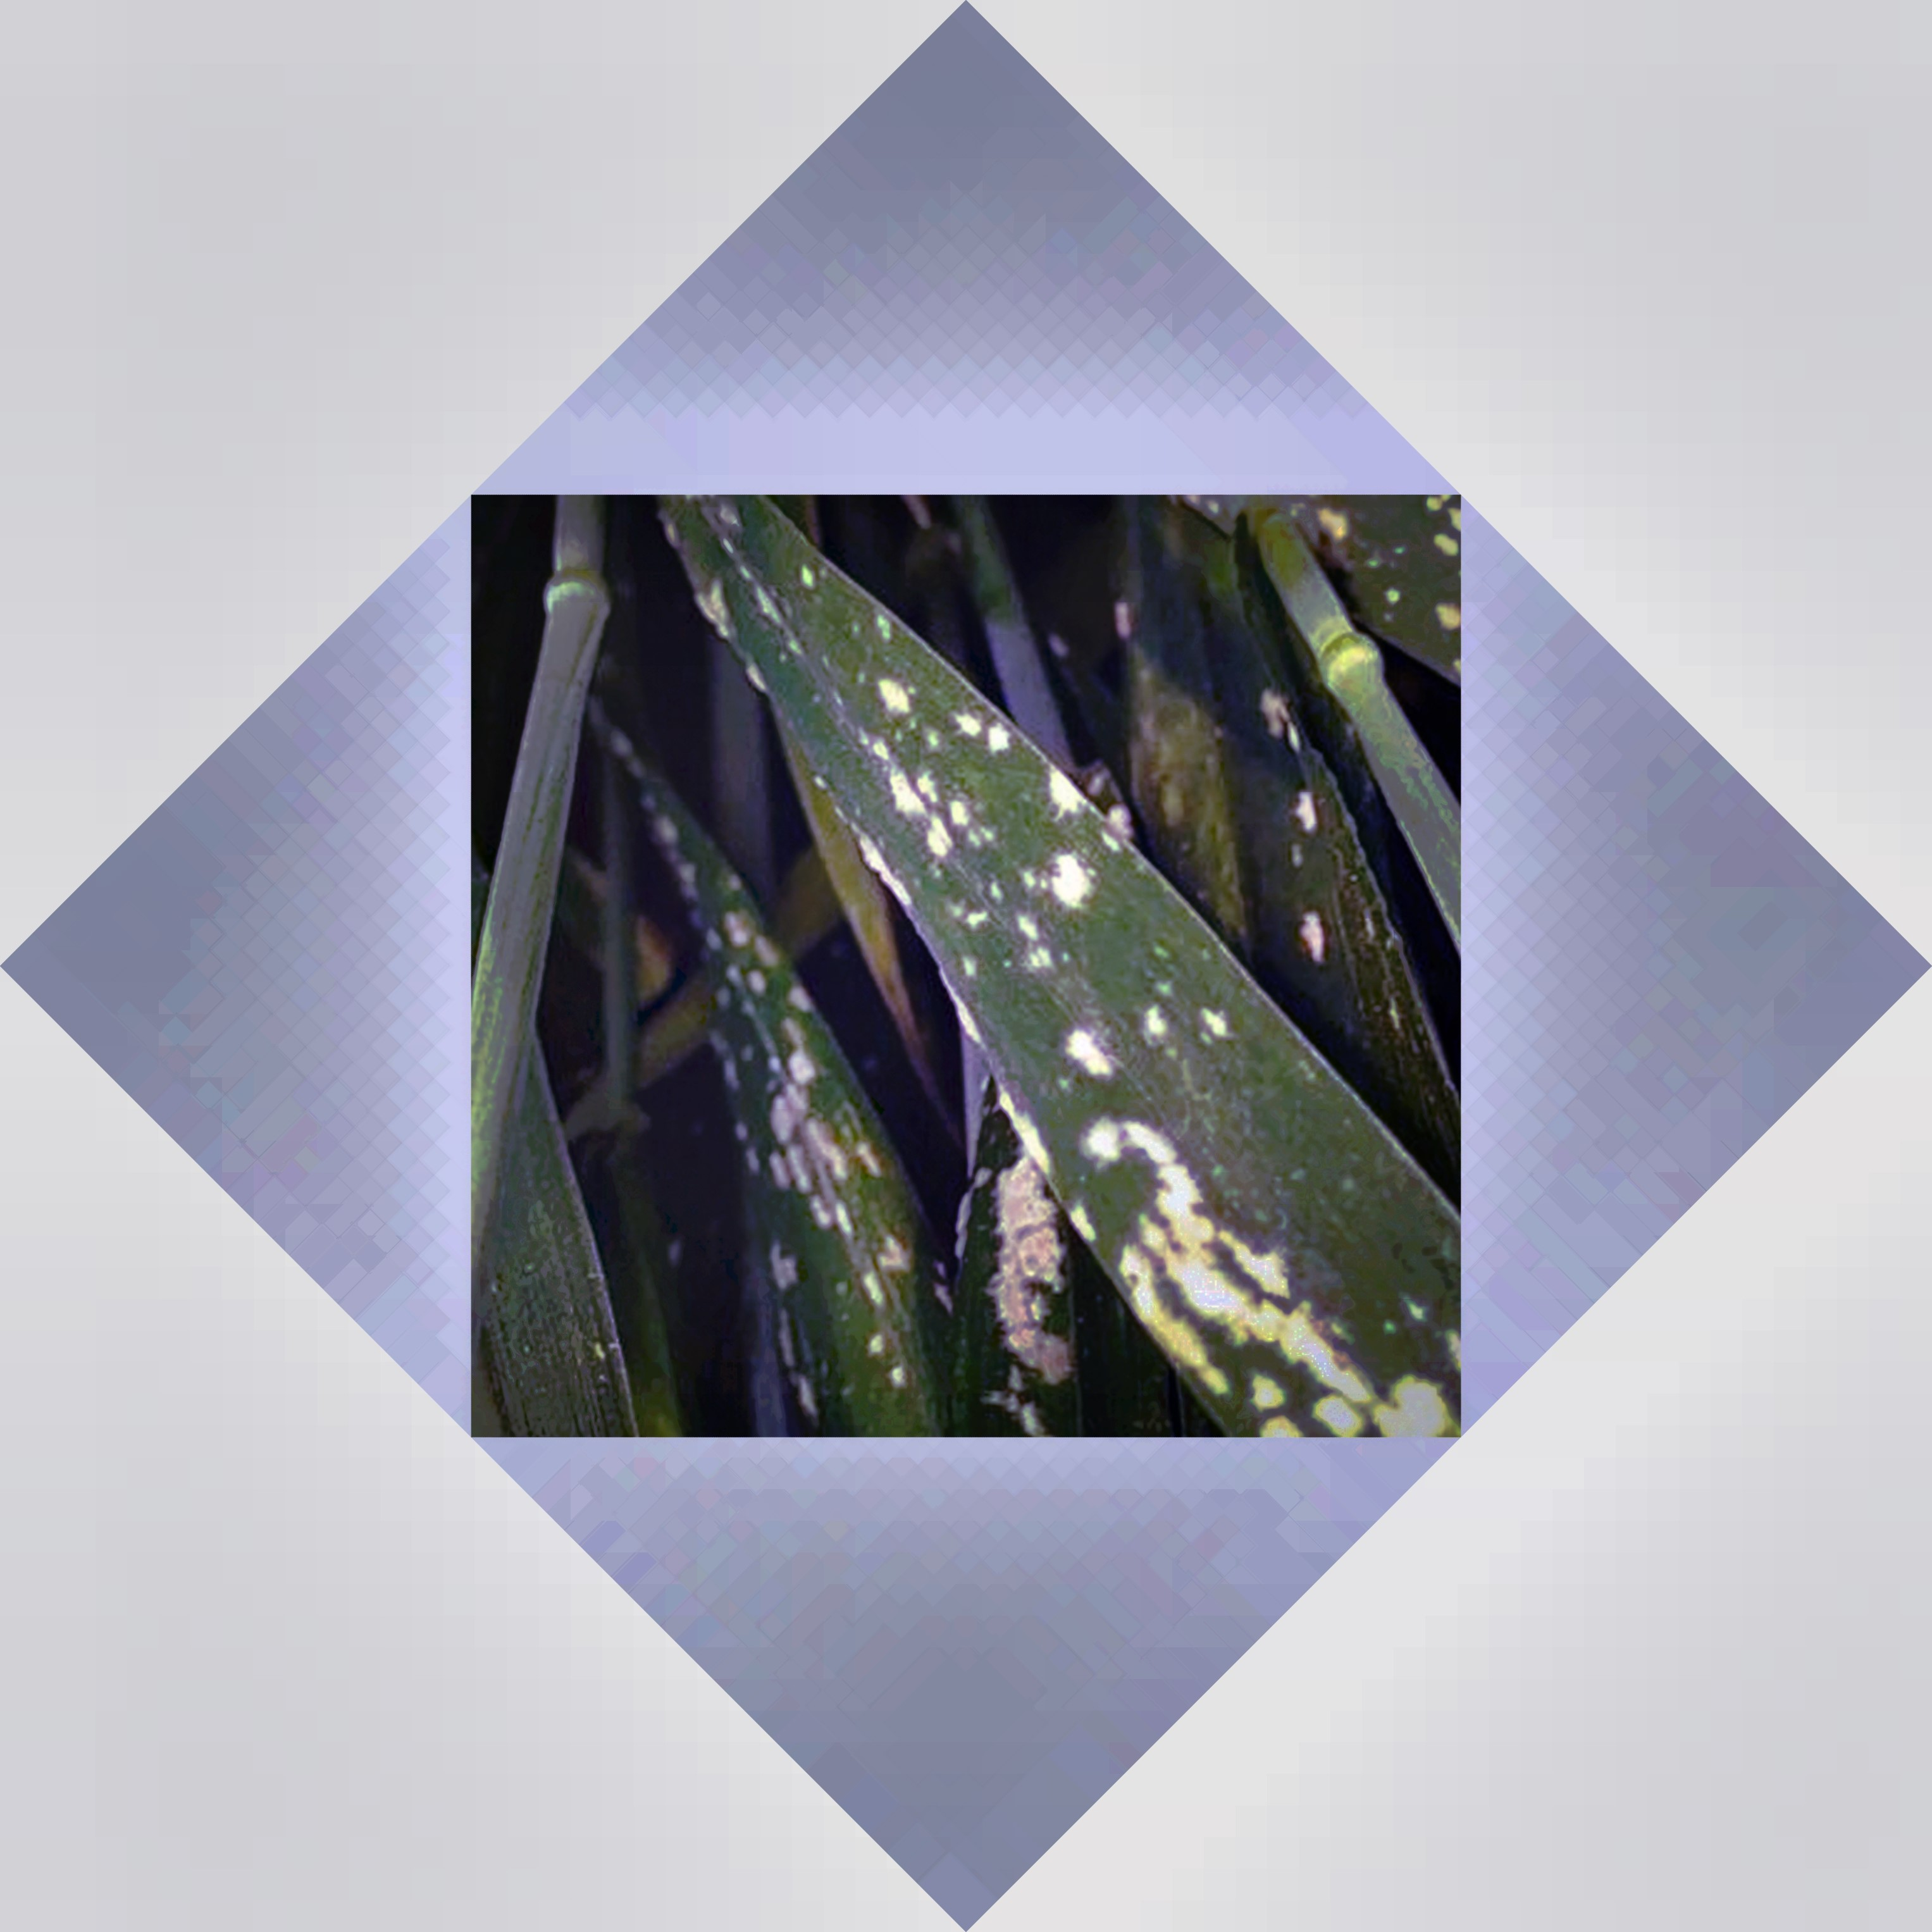Powdery Mildew: (653, 621, 1350, 1401)
